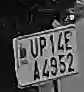1: (47, 33, 55, 54)
2: (66, 53, 76, 74)
4: (42, 59, 51, 77), (57, 32, 65, 52)
5: (56, 53, 68, 75)
9: (49, 57, 59, 76)
A: (31, 60, 41, 81)
E: (63, 29, 73, 51)
P: (38, 36, 48, 56)
U: (30, 38, 39, 59)
